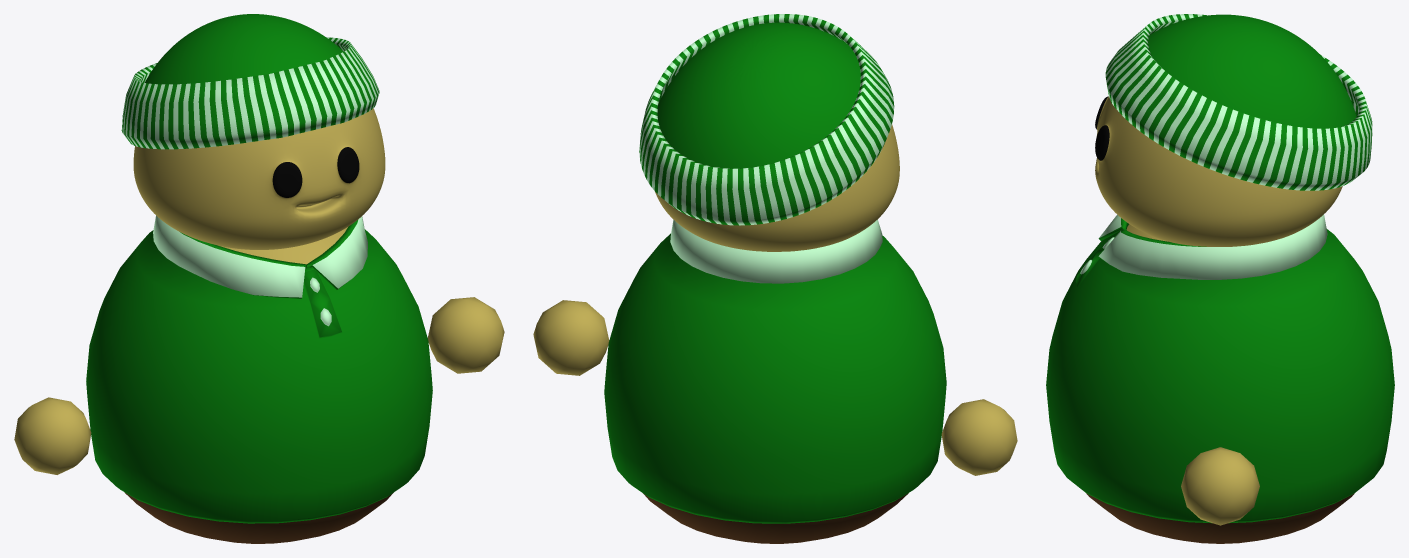
3 renders of one model, left to right at view 1: azimuth 30°, elevation 25°; view 2: azimuth 150°, elevation 25°; view 3: azimuth 270°, elevation 25°, orthographic.
Parts seen in each view (by area): view 1: Shirt, Head.001, Head, Torso, Hand Right, Hand Left; view 2: Shirt, Head.001, Head, Hand Right, Hand Left, Torso; view 3: Shirt, Head.001, Head, Hand Left, Torso.
Part boxes in pixels (x1,y1,x2,y2): Shirt: (86,215,432,523); Head.001: (121,14,379,149); Head: (133,108,385,249); Torso: (124,227,393,543); Hand Right: (14,397,91,474); Hand Left: (427,297,504,373); Shirt: (604,219,946,523); Head.001: (639,14,894,225); Head: (655,124,899,251); Hand Right: (941,399,1017,475); Hand Left: (533,300,609,375); Torso: (643,493,908,543); Shirt: (1046,214,1394,523); Head.001: (1105,14,1372,190); Head: (1095,96,1342,246); Hand Left: (1181,447,1259,525); Torso: (1086,224,1354,543).
Size of the model in its own units: 278 by 273 by 175.
